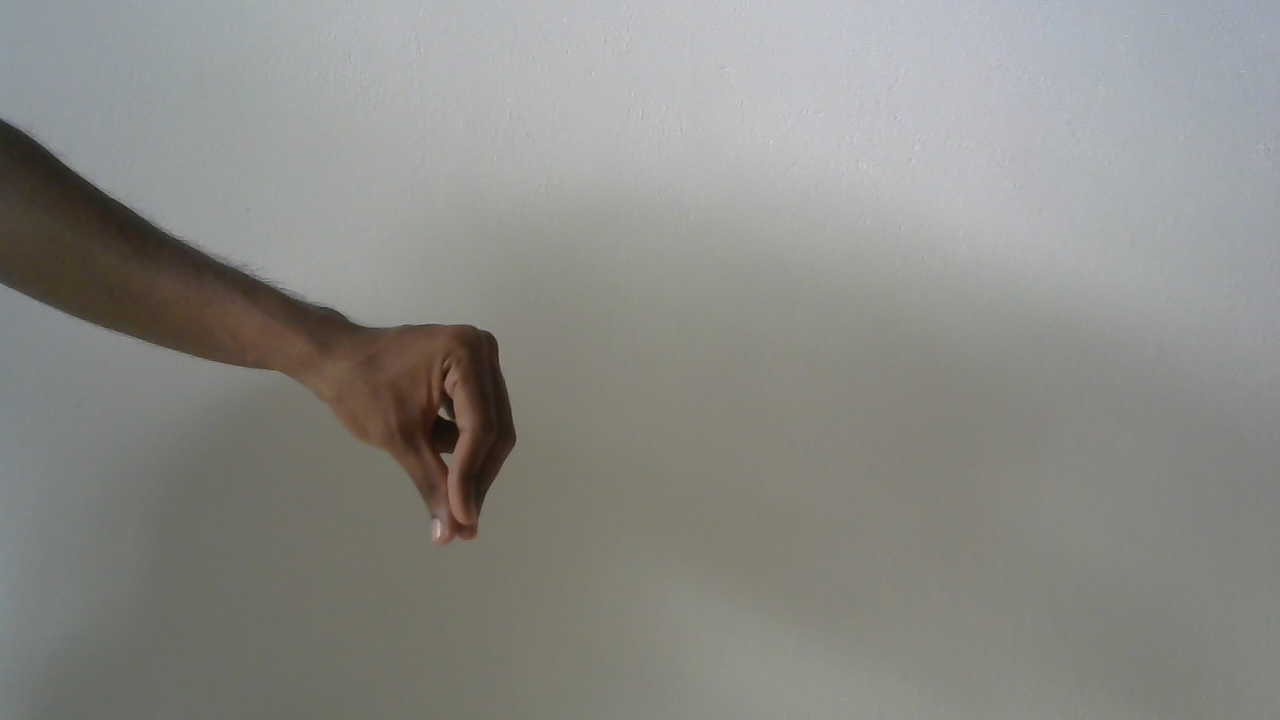no: (307, 277, 534, 555)
